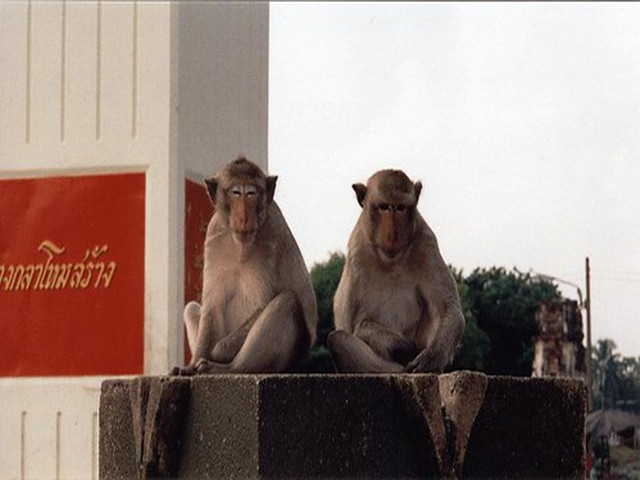Monkey: (329, 156, 472, 372), (182, 155, 318, 372)
